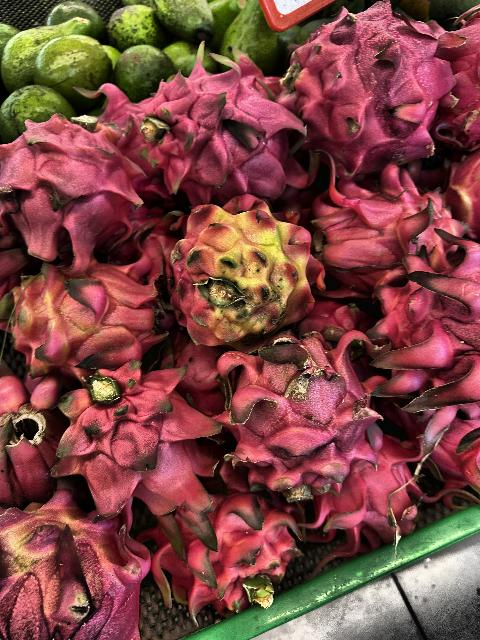buah-naga-belum-matang: (145, 214, 333, 334), (0, 500, 158, 640), (0, 271, 164, 367)
buah-naga-matang: (269, 19, 463, 164), (213, 343, 388, 491), (49, 364, 212, 518), (0, 114, 148, 260), (130, 80, 300, 196), (370, 245, 480, 415), (299, 160, 453, 272), (149, 490, 297, 606), (302, 450, 426, 550)
